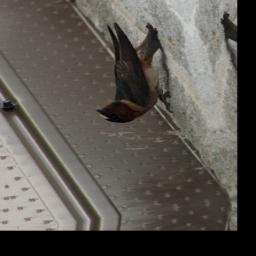Swallow: (73, 16, 184, 127)
